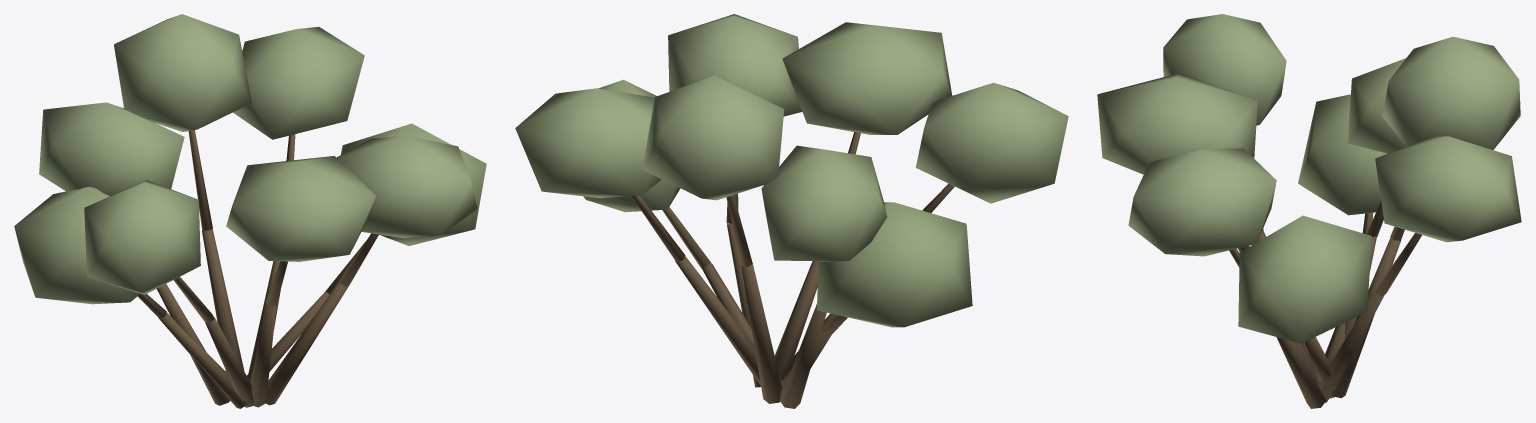
The model's file is bush_native.glb.
3 views of the same model, side by side, from view 1: azimuth 30°, elevation 25°; view 2: azimuth 150°, elevation 25°; view 3: azimuth 270°, elevation 25° (orthographic). The views are drawn at different scales.
Visible parts, largest first — view 1: bush_native; view 2: bush_native; view 3: bush_native.
Part boxes in pixels (<box>): bush_native: <box>14,14,486,408</box>; bush_native: <box>515,14,1068,408</box>; bush_native: <box>1097,14,1521,408</box>.
Bounding box in the file's own units: 2 × 1.55 × 1.65.
